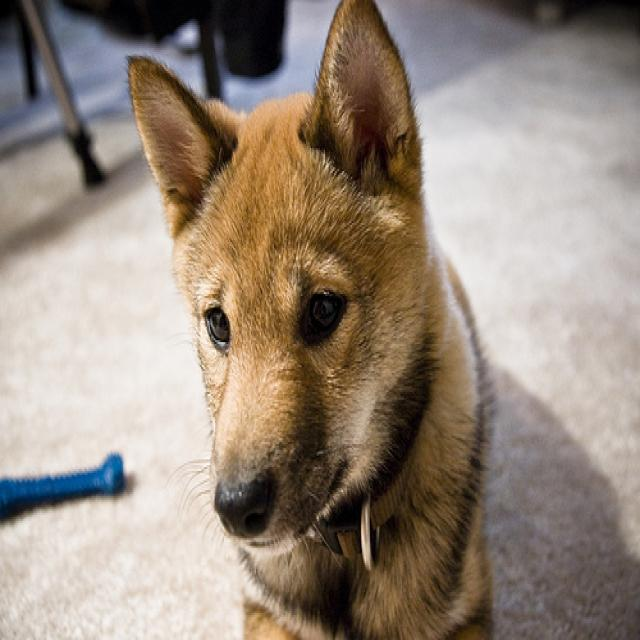dog: (125, 0, 419, 557)
